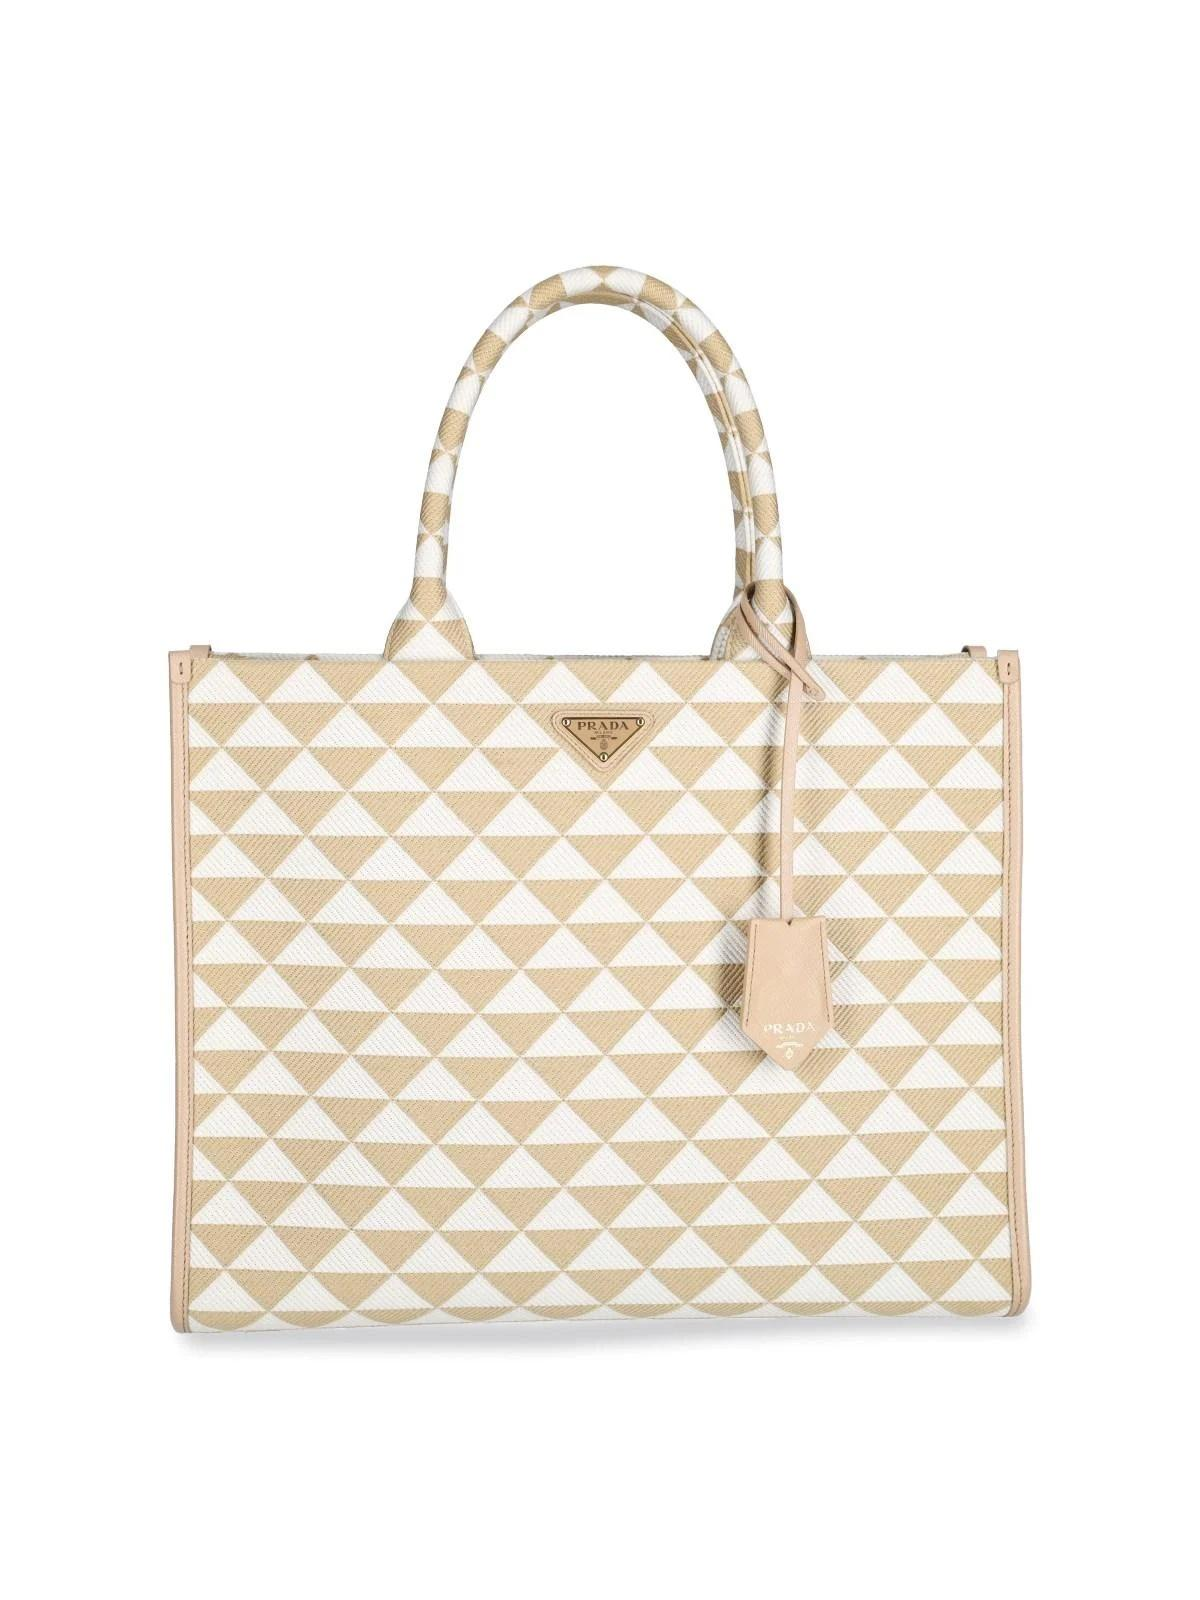PRADA: (562, 716, 645, 762)
